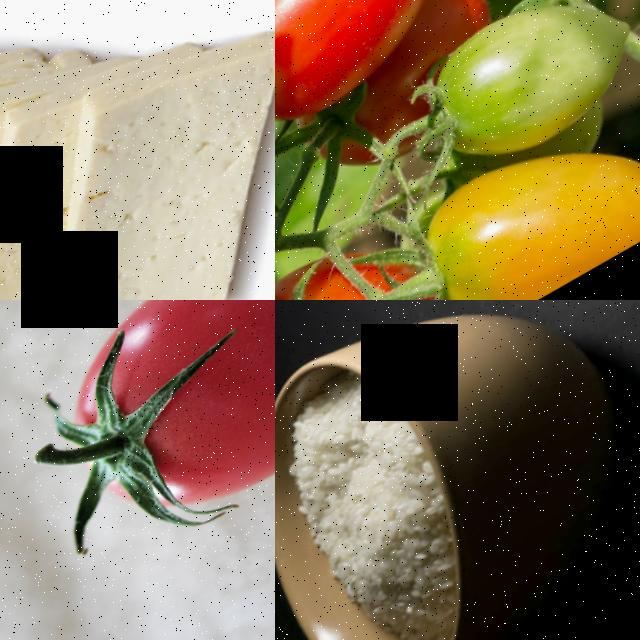tofu: (0, 0, 275, 300)
tomato: (24, 300, 275, 576), (394, 94, 640, 300), (275, 0, 496, 172), (275, 205, 477, 300)
white rice: (275, 365, 497, 640)
